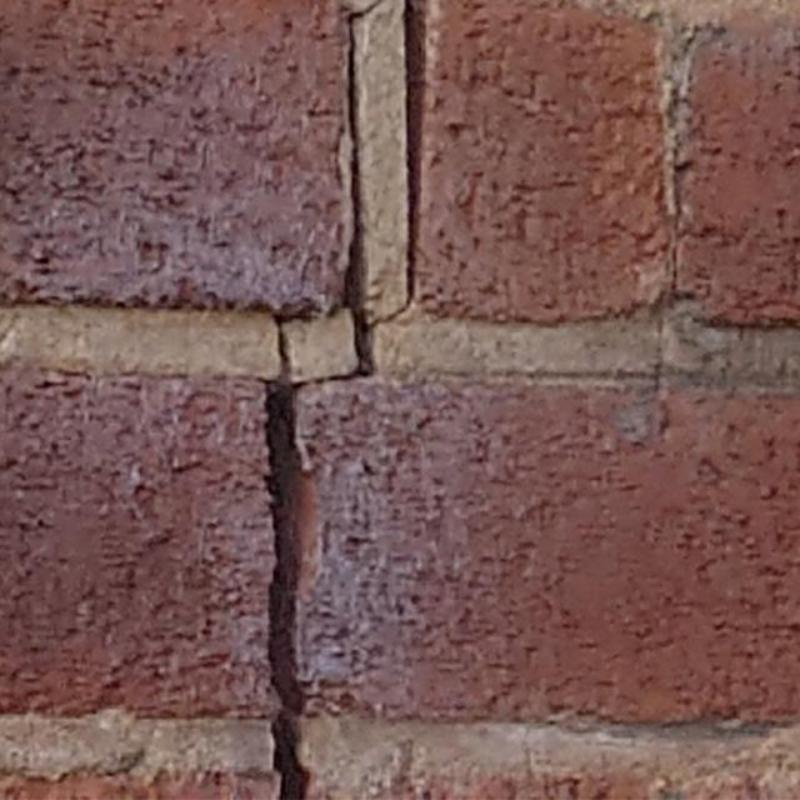crack: (266, 316, 374, 799), (344, 0, 425, 374)
